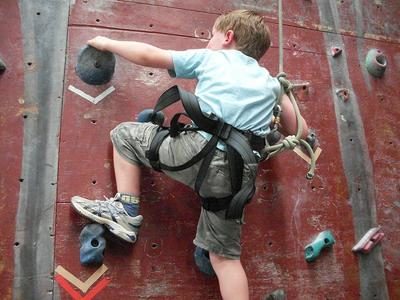person: (72, 10, 310, 300)
